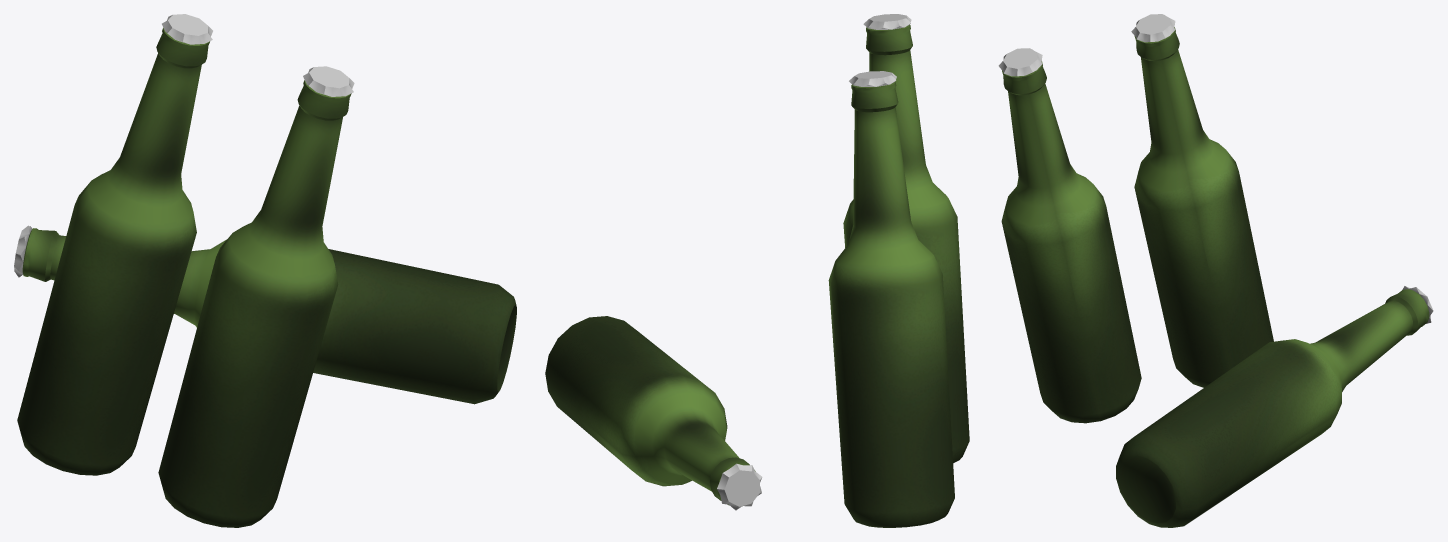
File: soju10.obj
3 views of the same model, side by side, from view 1: azimuth 30°, elevation 25°; view 2: azimuth 150°, elevation 25°; view 3: azimuth 270°, elevation 25° (orthographic). The views are drawn at different scales.
Size of the model in its own units: 7.49 by 7.16 by 7.2.
